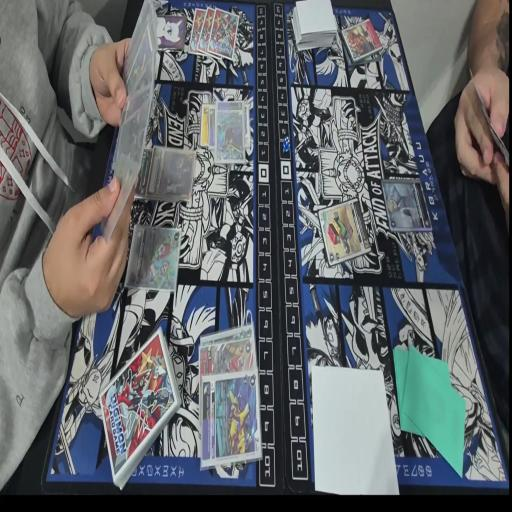card: (197, 368, 265, 472), (124, 225, 182, 296), (319, 202, 368, 269), (382, 170, 429, 239), (113, 93, 152, 176), (146, 143, 199, 203), (198, 337, 254, 382), (124, 60, 160, 124), (123, 22, 153, 95), (215, 100, 245, 168), (202, 316, 260, 347), (134, 140, 157, 206), (343, 19, 381, 58), (206, 96, 222, 156), (198, 97, 214, 156)
